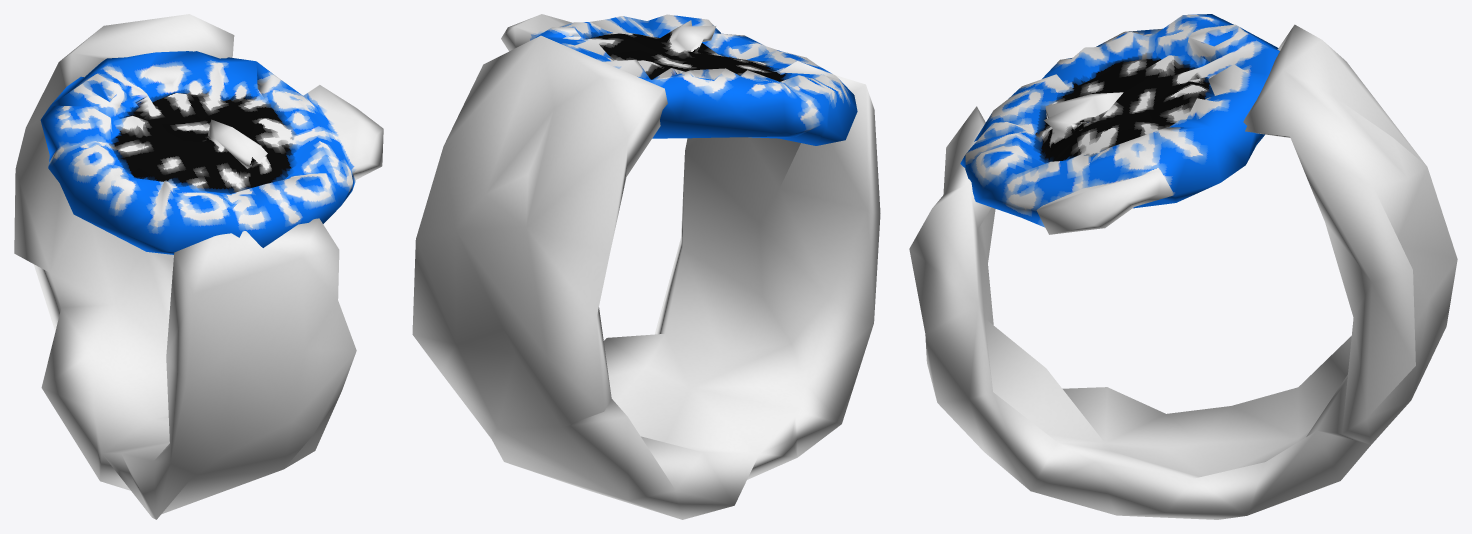
The model's file is sub blue.glb.
3 views of the same model, side by side, from view 1: azimuth 30°, elevation 25°; view 2: azimuth 150°, elevation 25°; view 3: azimuth 270°, elevation 25° (orthographic). The views are drawn at different scales.
Parts seen in each view (by area): view 1: watch_sub_blue.001; view 2: watch_sub_blue.001; view 3: watch_sub_blue.001.
Part boxes in pixels (<box>): watch_sub_blue.001: <box>14,14,383,519</box>; watch_sub_blue.001: <box>412,14,880,519</box>; watch_sub_blue.001: <box>909,14,1457,519</box>.
Size of the model in its own units: 0.0378 by 0.0491 by 0.0512.
2 materials, 2 textured.
